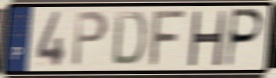4: (35, 10, 67, 70)
D: (110, 10, 148, 68)
F: (147, 8, 189, 69)
H: (186, 9, 228, 68)
P: (224, 7, 266, 69), (71, 9, 110, 69)
